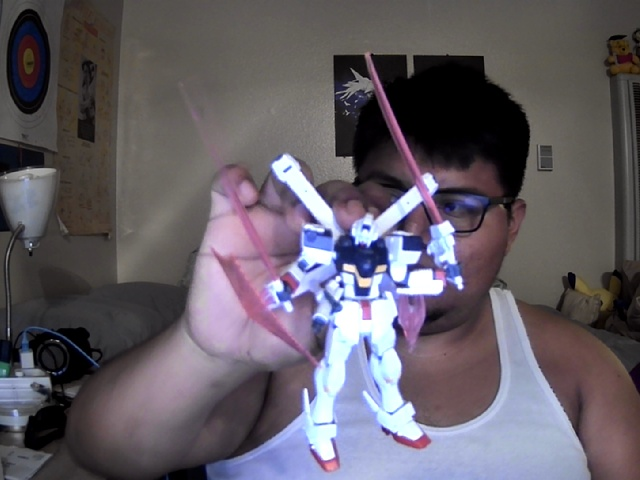Crossbones: (178, 76, 465, 473)
